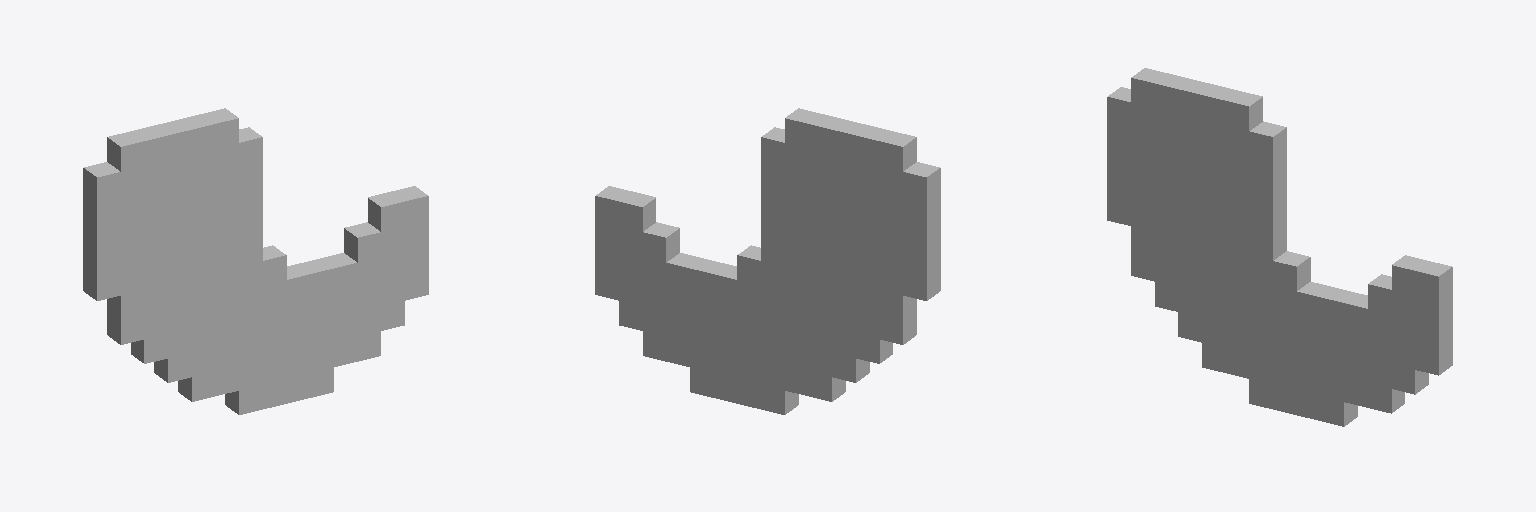
File: goathorn.obj
3 views of the same model, side by side, from view 1: azimuth 30°, elevation 25°; view 2: azimuth 150°, elevation 25°; view 3: azimuth 330°, elevation 25° (orthographic).
Visible parts, largest first — view 1: goat_horn_0, goat_horn_6, goat_horn_2, goat_horn_3, goat_horn_1, goat_horn_4, goat_horn_5, goat_horn_7, goat_horn_8, goat_horn_10, goat_horn_11, goat_horn_9; view 2: goat_horn_0, goat_horn_6, goat_horn_2, goat_horn_3, goat_horn_1, goat_horn_4, goat_horn_5, goat_horn_7, goat_horn_8, goat_horn_10, goat_horn_11, goat_horn_9; view 3: goat_horn_0, goat_horn_2, goat_horn_6, goat_horn_3, goat_horn_4, goat_horn_5, goat_horn_1, goat_horn_7, goat_horn_8, goat_horn_11, goat_horn_10, goat_horn_9.
Boxes of the visible parts, x1,y1,x2,y2 form: goat_horn_0: [107, 108, 238, 344]; goat_horn_6: [287, 253, 357, 378]; goat_horn_2: [225, 127, 262, 414]; goat_horn_3: [368, 186, 428, 305]; goat_horn_1: [83, 162, 120, 300]; goat_horn_4: [263, 245, 286, 408]; goat_horn_5: [344, 222, 380, 361]; goat_horn_7: [131, 316, 238, 363]; goat_horn_8: [154, 341, 238, 382]; goat_horn_10: [178, 366, 238, 401]; goat_horn_11: [287, 368, 333, 403]; goat_horn_9: [381, 301, 404, 330]; goat_horn_0: [785, 108, 916, 344]; goat_horn_6: [666, 253, 736, 378]; goat_horn_2: [761, 127, 798, 414]; goat_horn_3: [595, 186, 655, 305]; goat_horn_1: [903, 162, 940, 300]; goat_horn_4: [737, 245, 760, 408]; goat_horn_5: [643, 222, 679, 361]; goat_horn_7: [785, 316, 892, 363]; goat_horn_8: [785, 341, 869, 382]; goat_horn_10: [785, 366, 845, 401]; goat_horn_11: [690, 368, 736, 403]; goat_horn_9: [619, 301, 642, 330]; goat_horn_0: [1131, 68, 1262, 304]; goat_horn_2: [1249, 121, 1286, 408]; goat_horn_6: [1297, 282, 1367, 407]; goat_horn_3: [1392, 255, 1452, 375]; goat_horn_4: [1273, 251, 1310, 414]; goat_horn_5: [1368, 274, 1404, 413]; goat_horn_1: [1107, 87, 1130, 225]; goat_horn_7: [1155, 282, 1248, 328]; goat_horn_8: [1178, 312, 1248, 353]; goat_horn_11: [1297, 391, 1357, 426]; goat_horn_10: [1202, 343, 1248, 378]; goat_horn_9: [1392, 364, 1428, 394].
Size of the model in its own units: 0.875 by 0.75 by 0.0625.